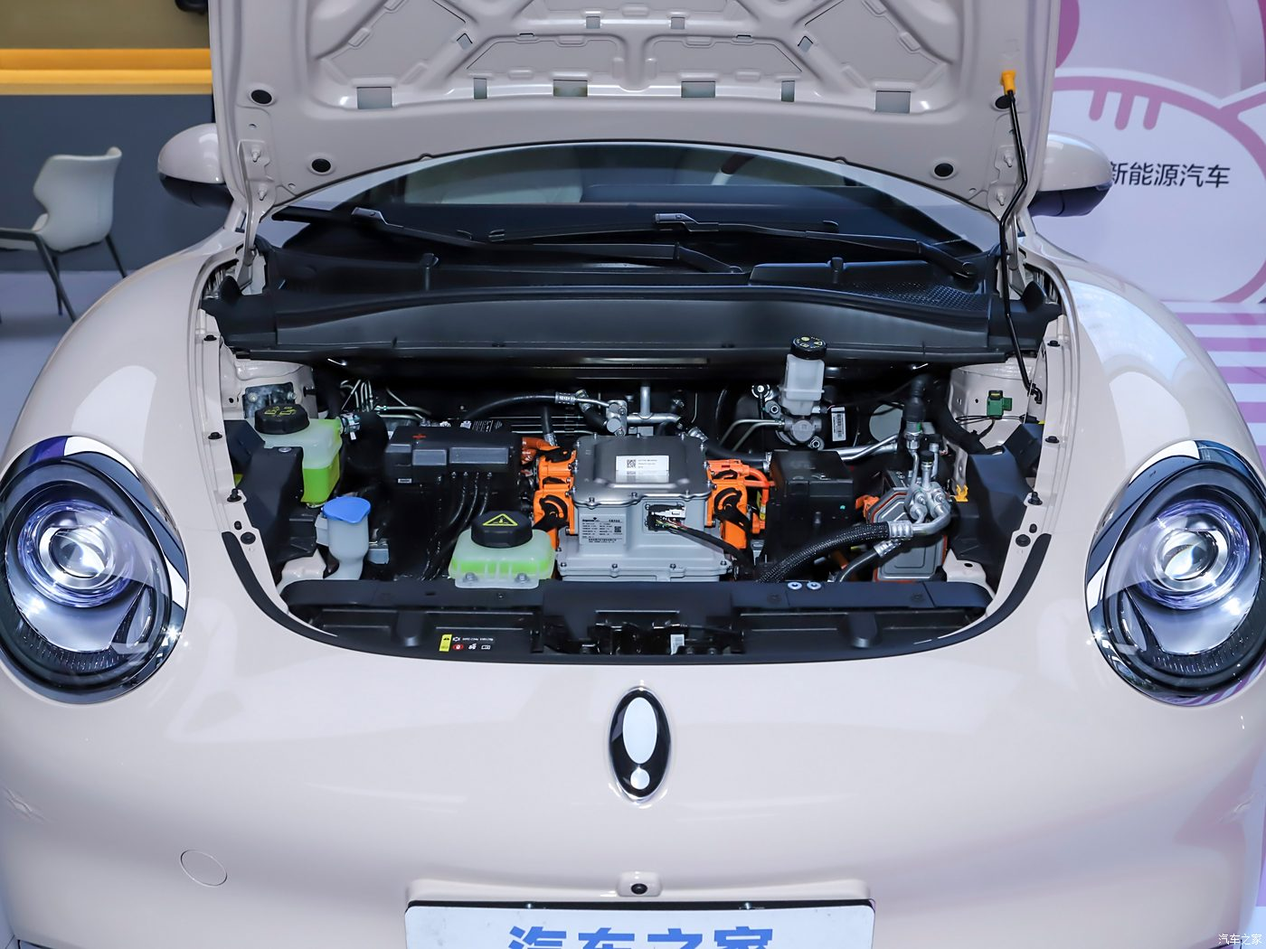ORA: (609, 689, 671, 801)
